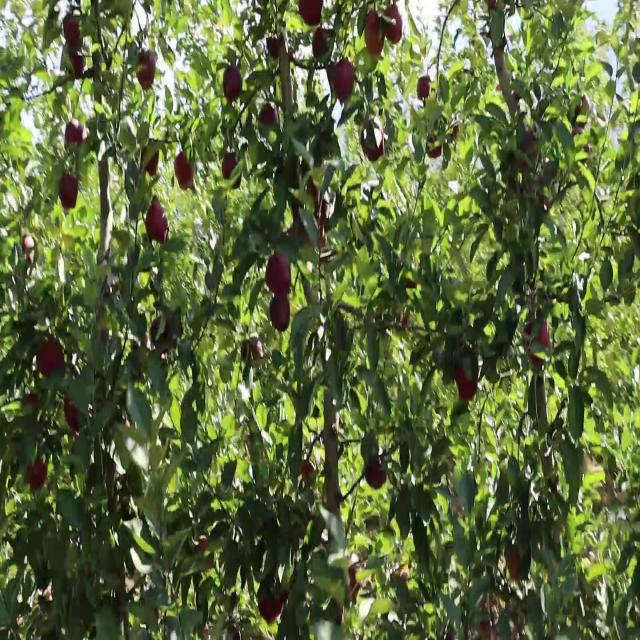apple: (524, 319, 551, 370), (332, 56, 356, 103), (36, 341, 65, 377), (268, 255, 292, 297), (364, 14, 385, 57), (456, 369, 480, 405), (136, 49, 156, 92), (152, 319, 174, 356), (384, 7, 404, 46), (364, 127, 385, 164), (148, 206, 168, 244), (520, 135, 540, 172), (272, 298, 292, 334), (176, 156, 196, 192), (60, 177, 80, 213), (368, 455, 388, 491), (64, 398, 82, 436), (224, 71, 244, 105), (300, 0, 324, 28), (260, 597, 283, 626), (64, 14, 82, 50), (64, 120, 86, 149), (28, 462, 48, 492), (196, 540, 215, 569), (312, 28, 329, 60), (508, 547, 523, 583), (524, 135, 539, 169), (144, 149, 160, 178), (244, 341, 263, 364), (260, 106, 279, 128), (268, 35, 283, 62), (24, 398, 39, 423), (24, 234, 35, 268), (416, 78, 432, 101), (428, 142, 444, 164), (224, 156, 237, 181), (72, 56, 85, 80), (196, 540, 211, 560), (308, 177, 320, 201), (24, 398, 39, 411), (304, 462, 313, 482)
